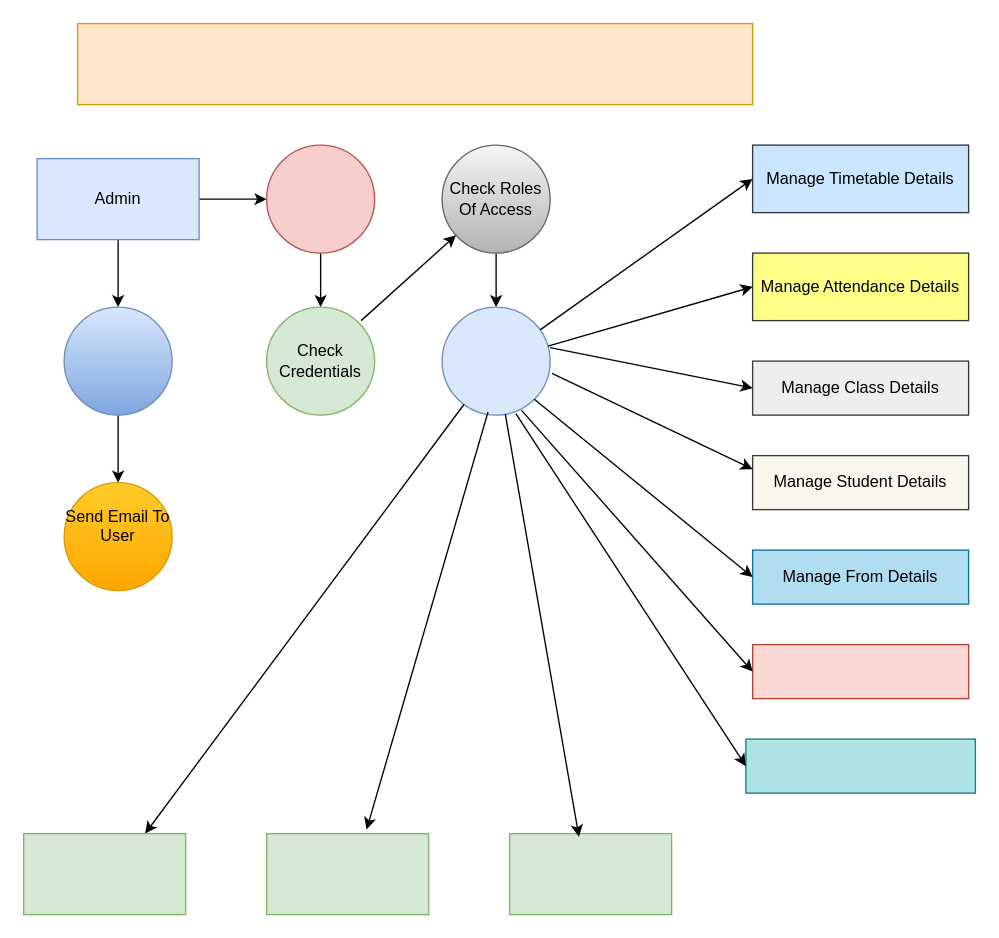
Image size: 999x938. Some labels were removed from this diagram. The box of each missing label's shape, as (x1, y1, x2, y2) in pixels:
Forgot Password: (63, 306, 172, 415)
Login to System: (265, 144, 375, 253)
Manage Modules: (441, 306, 550, 415)
STUDENT INFORMATION SYSTEM: (76, 22, 753, 105)
